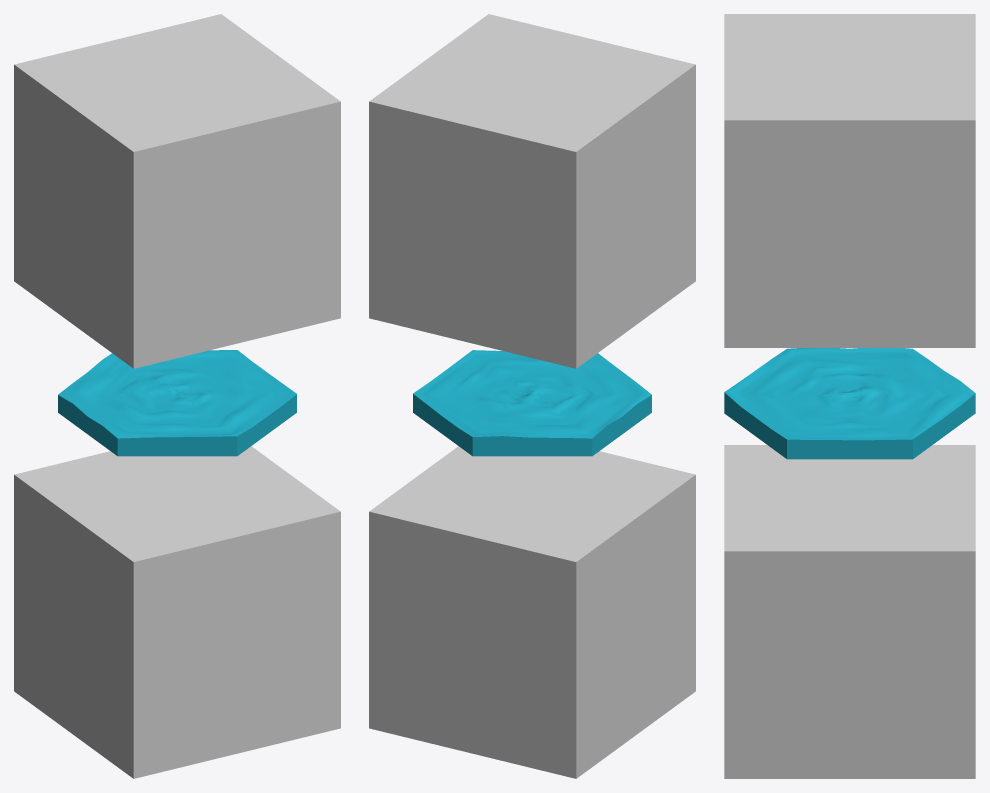
The model's file is waterhex 2.fbx.
3 views of the same model, side by side, from view 1: azimuth 30°, elevation 25°; view 2: azimuth 150°, elevation 25°; view 3: azimuth 270°, elevation 25° (orthographic). The views are drawn at different scales.
Parts seen in each view (by area): view 1: Cube, Cube.001, Cylinder; view 2: Cube, Cube.001, Cylinder; view 3: Cube, Cube.001, Cylinder.
Part boxes in pixels (<box>): Cube: <box>14,14,340,368</box>; Cube.001: <box>14,446,340,778</box>; Cylinder: <box>58,350,296,456</box>; Cube: <box>369,14,695,368</box>; Cube.001: <box>369,446,695,778</box>; Cylinder: <box>413,350,651,456</box>; Cube: <box>724,14,975,347</box>; Cube.001: <box>724,445,975,778</box>; Cylinder: <box>724,348,975,459</box>.
Bounding box in the file's own units: 200 × 578 × 200.
